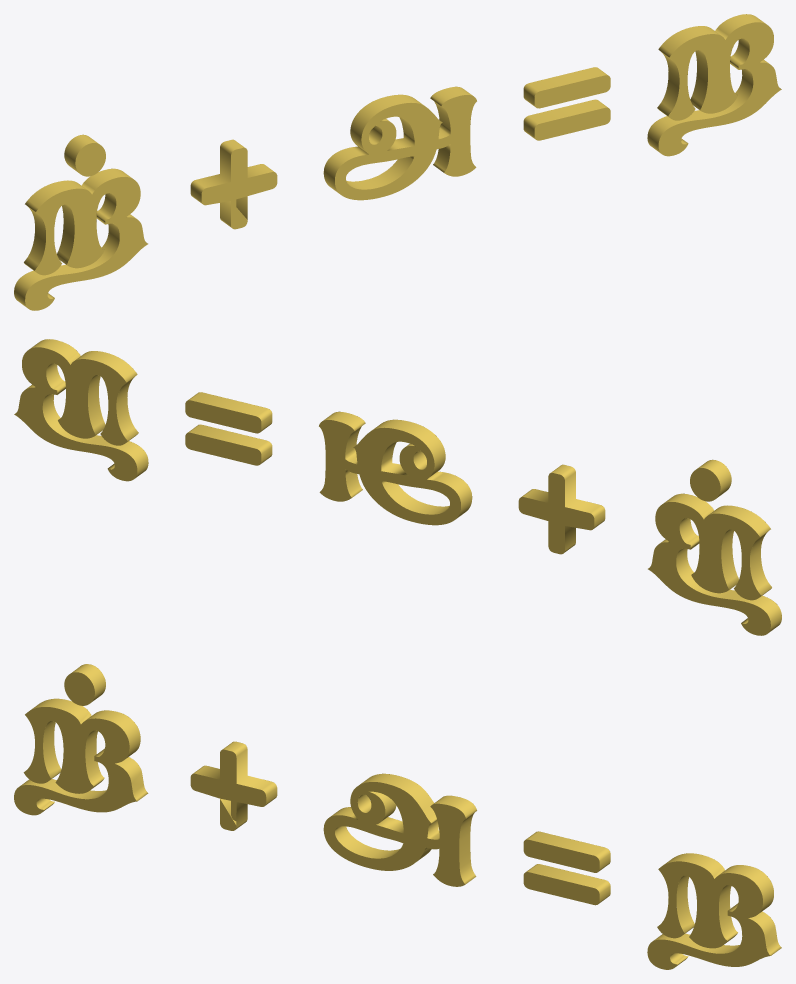
3 renders of one model, top to bottom at view 1: azimuth 30°, elevation 25°; view 2: azimuth 150°, elevation 25°; view 3: azimuth 330°, elevation 25°, orthographic.
Parts seen in each view (by area): view 1: raa; view 2: raa; view 3: raa.
Part boxes in pixels (<box>): raa: <box>14,14,781,310</box>; raa: <box>14,339,781,635</box>; raa: <box>14,664,781,969</box>.
Size of the model in its own units: 0.17 by 0.0331 by 0.00431.
